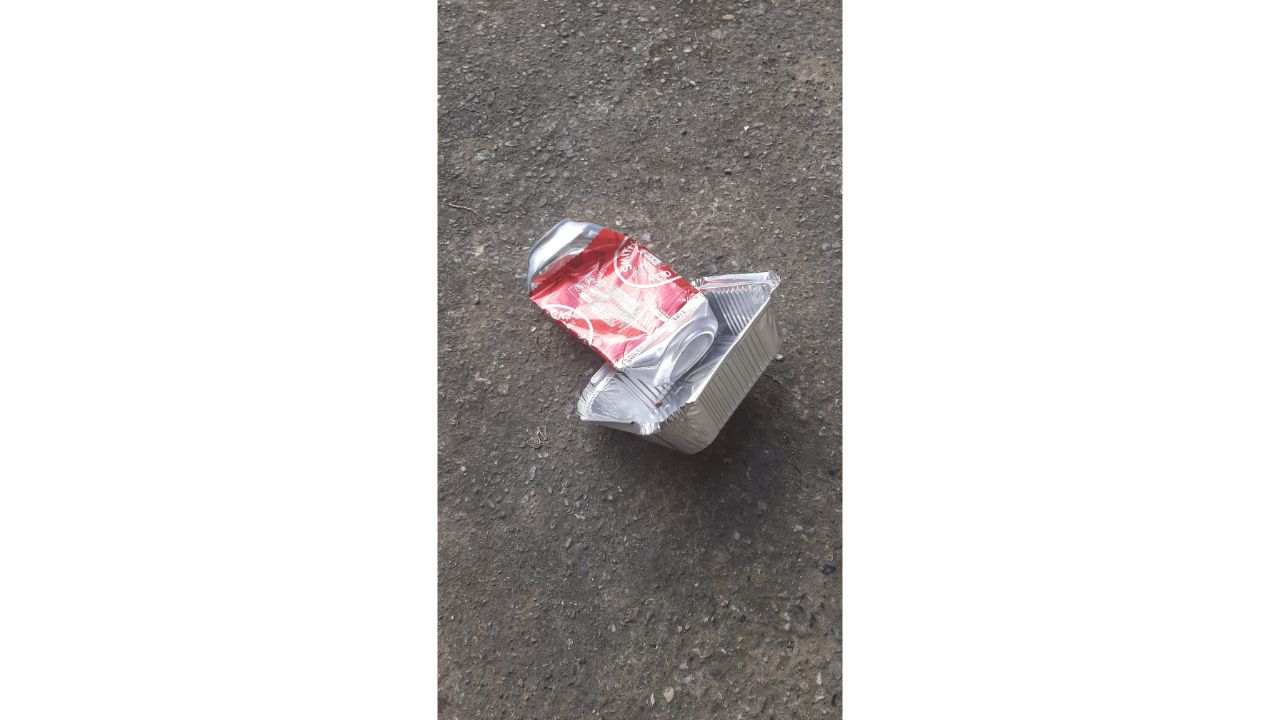Can: (521, 207, 721, 390)
